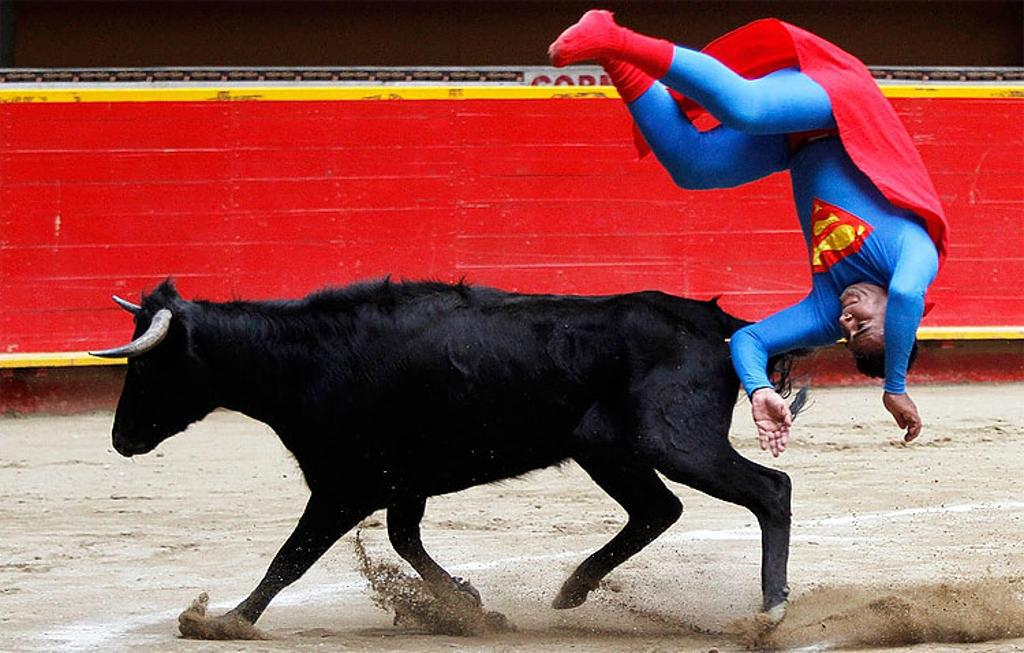face: (835, 287, 889, 369)
